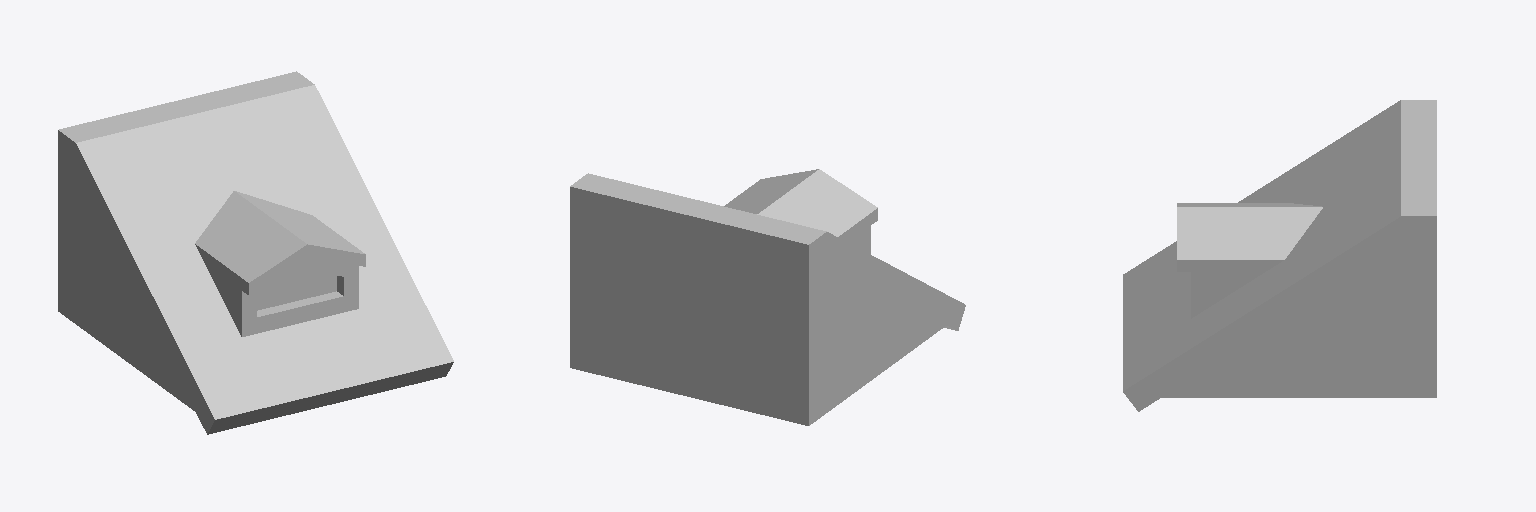
File: roof-slanted-window.obj
3 renders of one model, left to right at view 1: azimuth 30°, elevation 25°; view 2: azimuth 150°, elevation 25°; view 3: azimuth 270°, elevation 25°, orthographic.
Parts seen in each view (by area): view 1: roof-slanted-window; view 2: roof-slanted-window; view 3: roof-slanted-window.
Part boxes in pixels (left/top/right/bottom): roof-slanted-window: left=58, top=71, right=453, bottom=434; roof-slanted-window: left=570, top=169, right=965, bottom=425; roof-slanted-window: left=1123, top=100, right=1436, bottom=411.
Size of the model in its own units: 1 by 0.782 by 1.14.